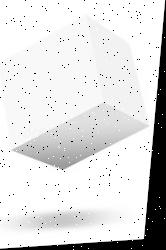cube: (0, 15, 159, 180)
